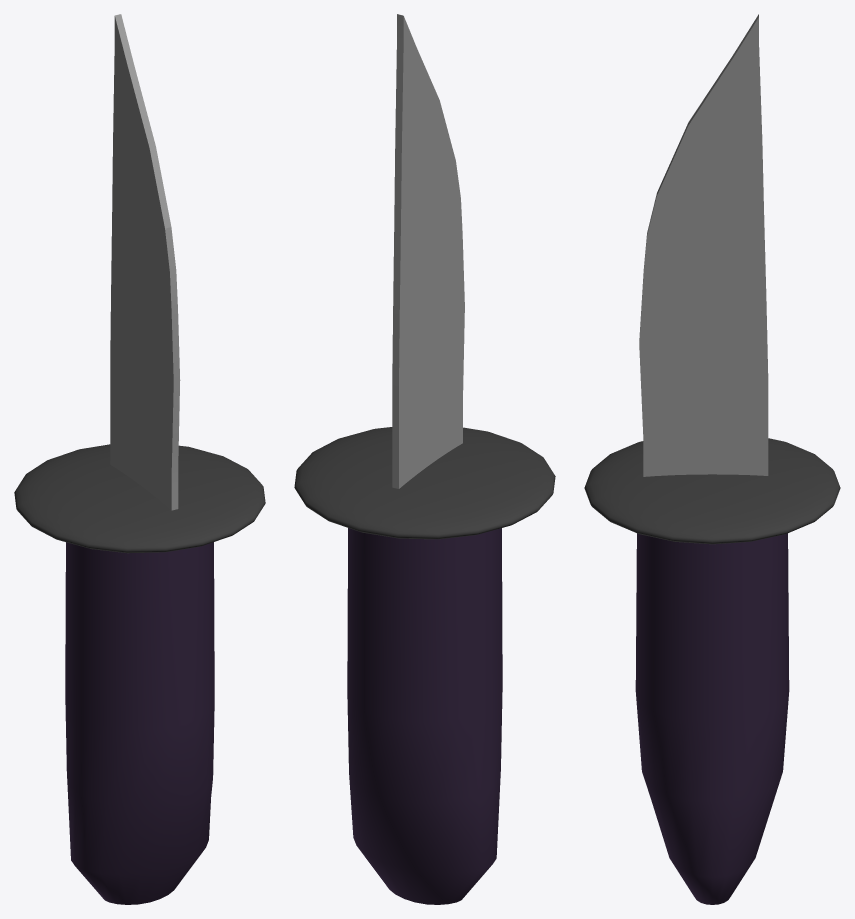
The model's file is smallKnife.fbx.
The picture shows the model from 3 angles, left to right: view 1: azimuth 30°, elevation 25°; view 2: azimuth 150°, elevation 25°; view 3: azimuth 270°, elevation 25°; orthographic projection. The views are drawn at different scales.
Visible parts, largest first — view 1: pCube11; view 2: pCube11; view 3: pCube11.
Boxes of the visible parts, x1=… form: pCube11: x1=14, y1=14, x2=265, y2=904; pCube11: x1=294, y1=14, x2=555, y2=904; pCube11: x1=584, y1=14, x2=840, y2=904.
Bounding box in the file's own units: 1.4 × 5.32 × 1.4.
1 material, 1 textured.
